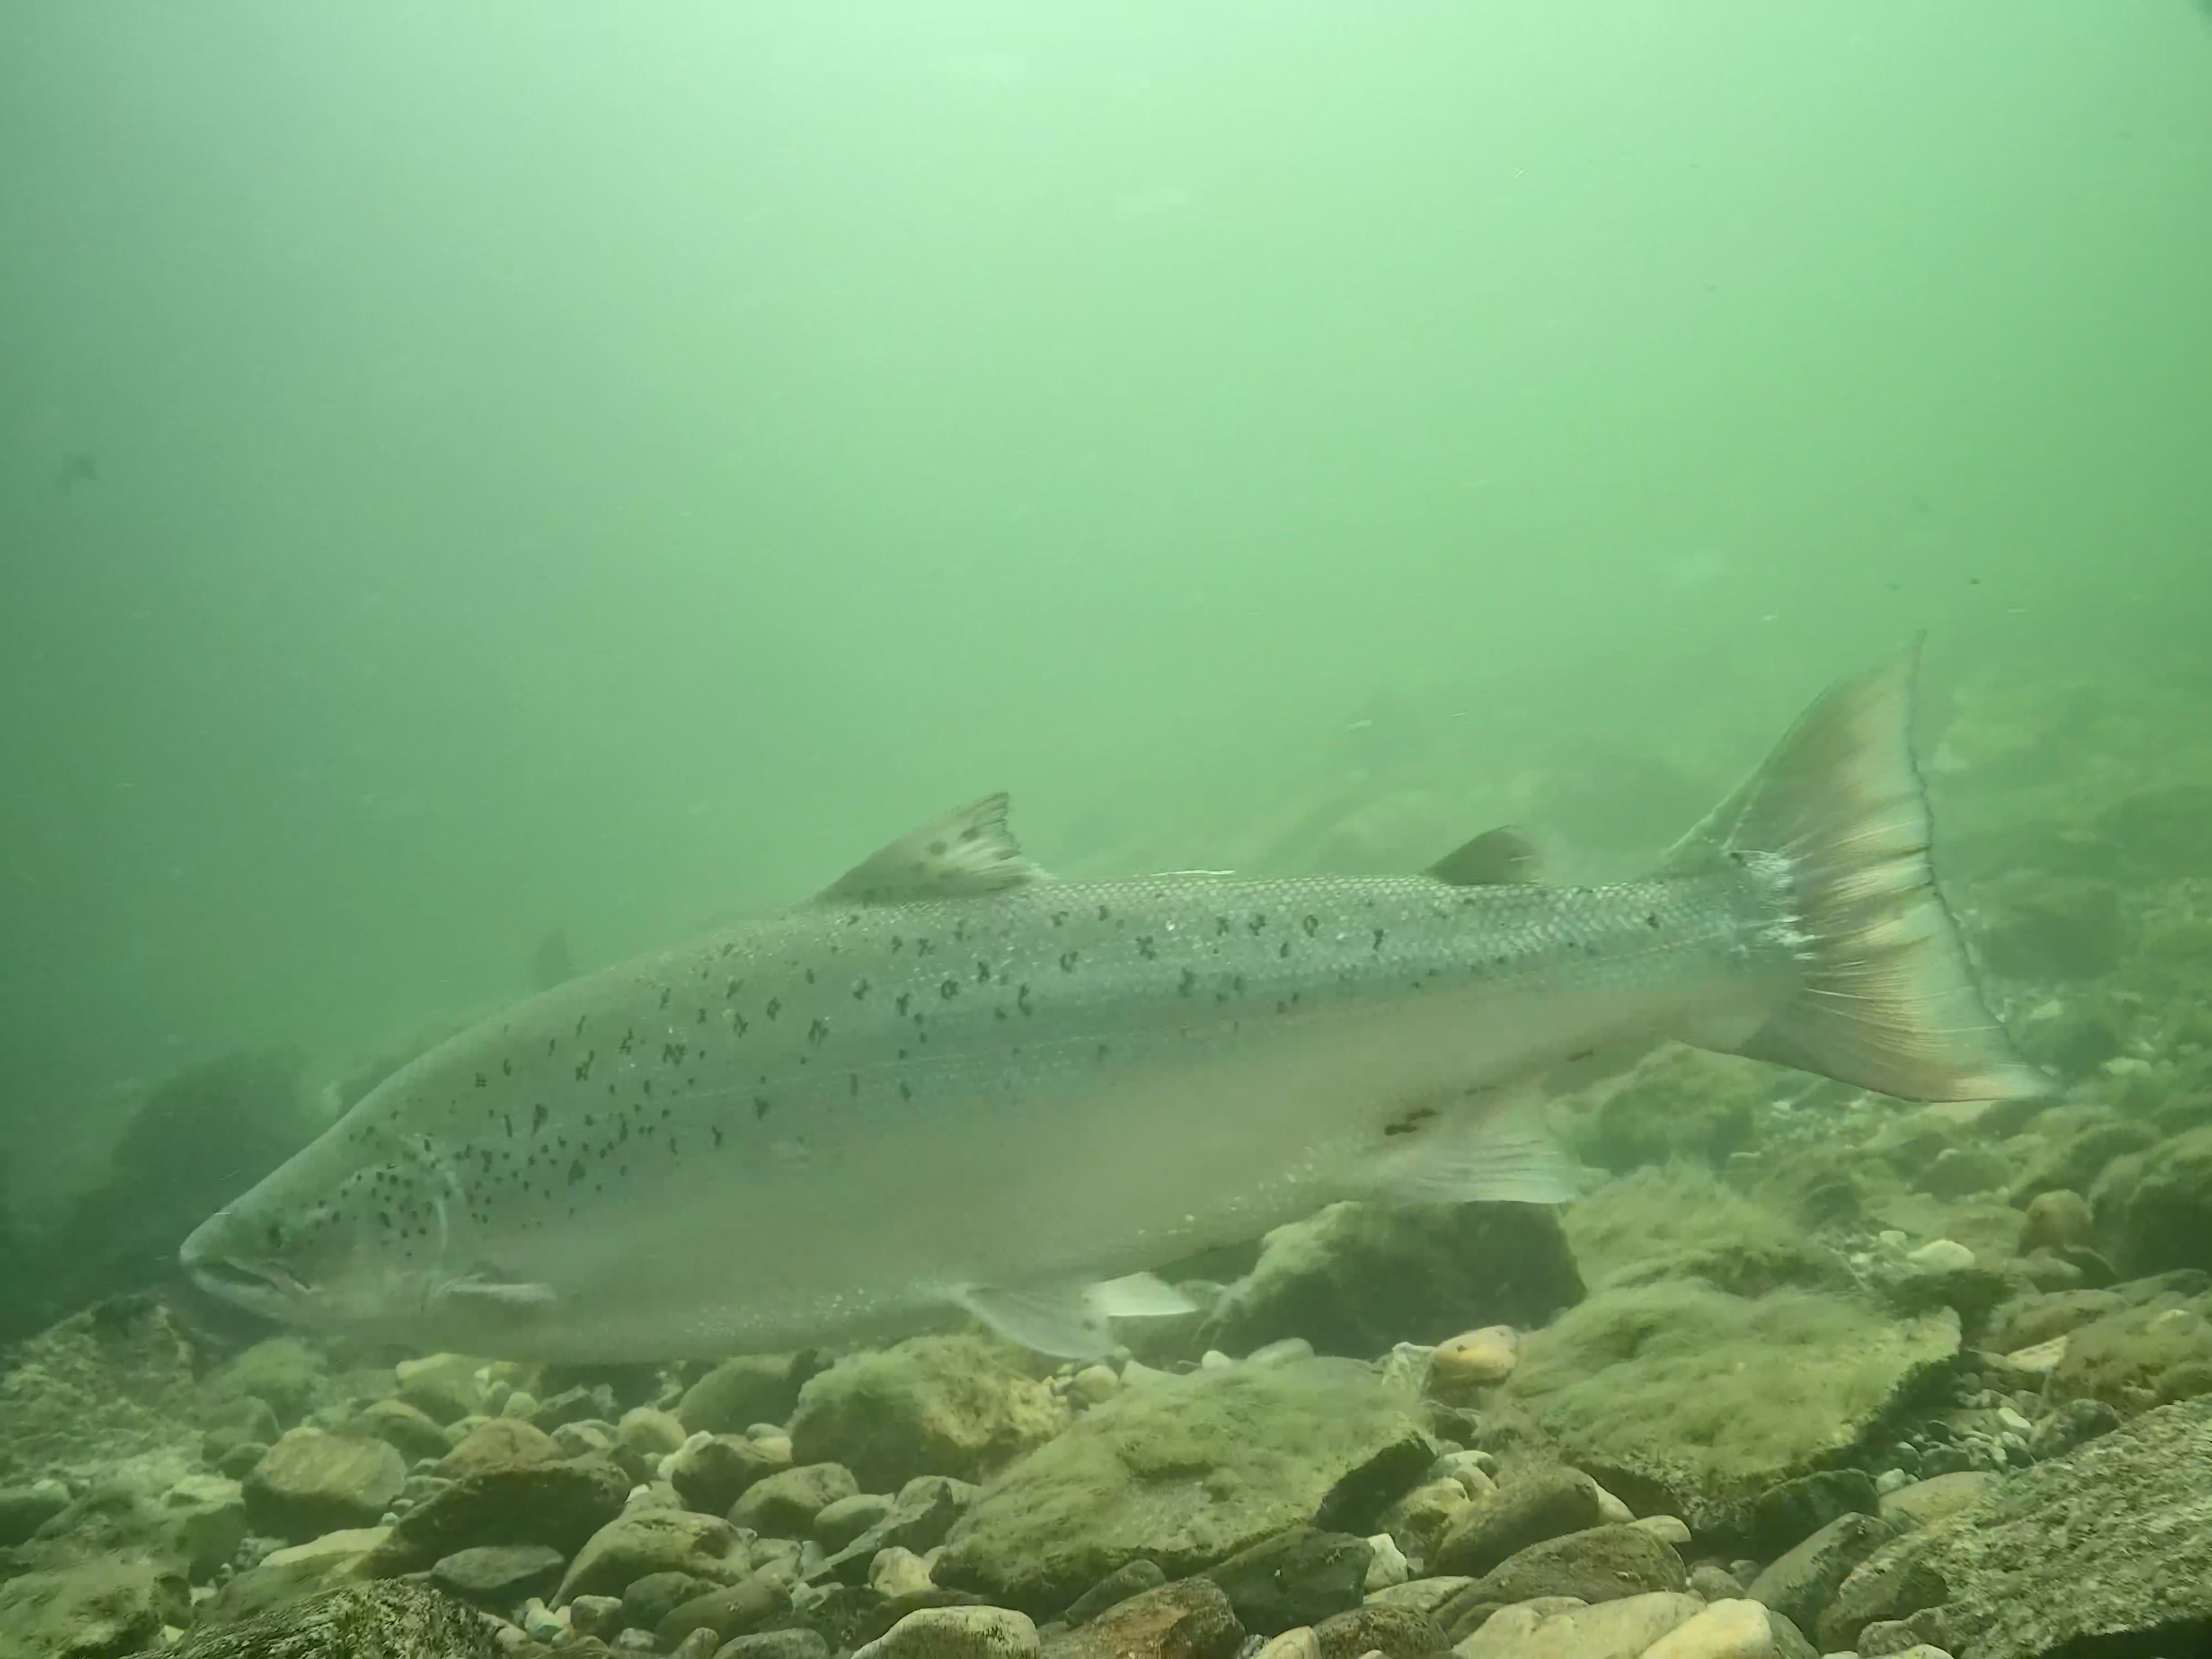salmon: (171, 636, 2062, 1368)
